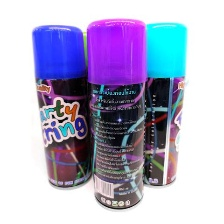aerosol_cans: (83, 16, 149, 216), (27, 20, 100, 194), (129, 19, 193, 190)
